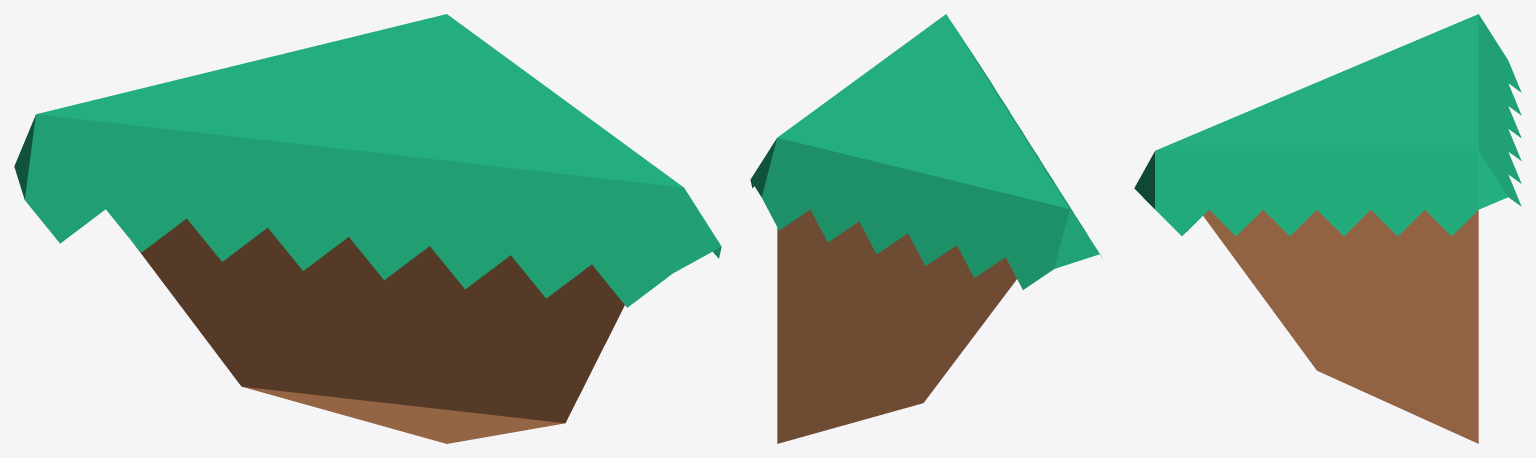
File: blockCliffCorner.fbx
3 renders of one model, left to right at view 1: azimuth 30°, elevation 25°; view 2: azimuth 150°, elevation 25°; view 3: azimuth 270°, elevation 25°, orthographic. The views are drawn at different scales.
Visible parts, largest first — view 1: blockCliffCorner; view 2: blockCliffCorner; view 3: blockCliffCorner.
Part boxes in pixels (box(x1,y1,x2,y2)): blockCliffCorner: box(14, 14, 721, 443); blockCliffCorner: box(750, 14, 1102, 443); blockCliffCorner: box(1134, 14, 1521, 443).
Bounding box in the file's own units: 11.98 × 10 × 11.98.
